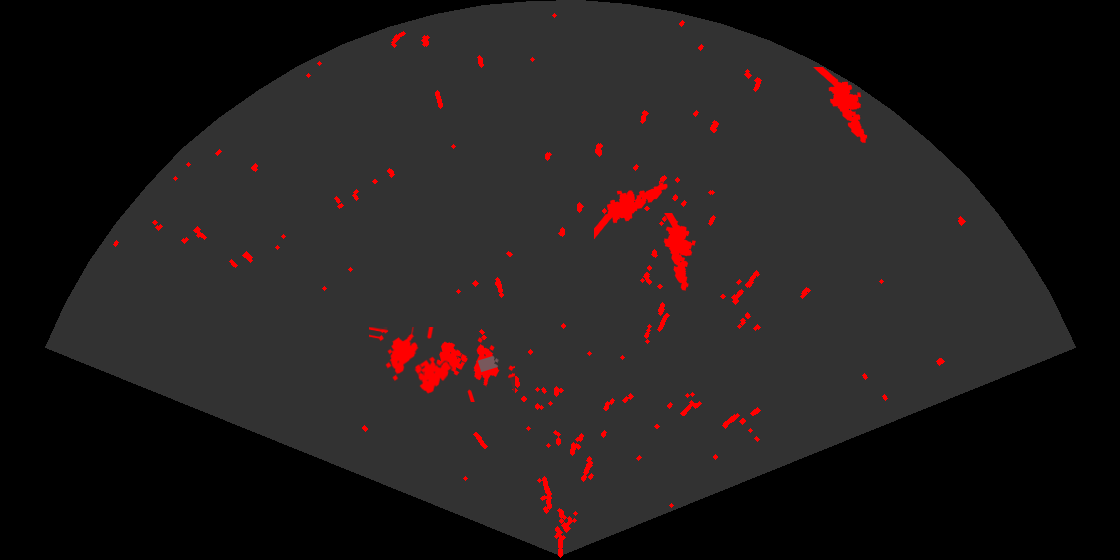cage: (369, 327, 453, 395), (434, 336, 515, 402)
frogman: (812, 67, 869, 145), (594, 181, 669, 239), (662, 213, 698, 292)
